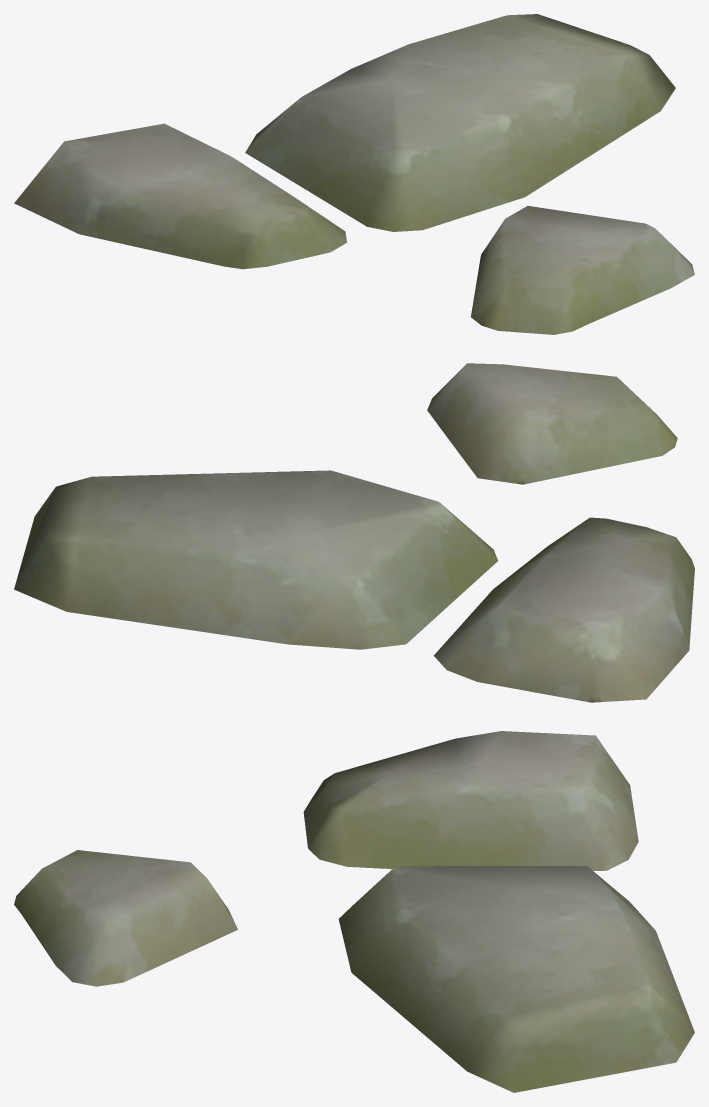
Rendered from JZ_Shiban_A_02.fbx.
3 renders of one model, top to bottom at view 1: azimuth 30°, elevation 25°; view 2: azimuth 150°, elevation 25°; view 3: azimuth 270°, elevation 25°, orthographic. The views are drawn at different scales.
Visible parts, largest first — view 1: JZ_Shiban_A_02; view 2: JZ_Shiban_A_02; view 3: JZ_Shiban_A_02.
Part boxes in pixels (x1,y1,x2,y2): JZ_Shiban_A_02: (14,14,694,334); JZ_Shiban_A_02: (14,363,694,702); JZ_Shiban_A_02: (14,731,694,1092).
Size of the model in its own units: 153 by 14.54 by 137.
